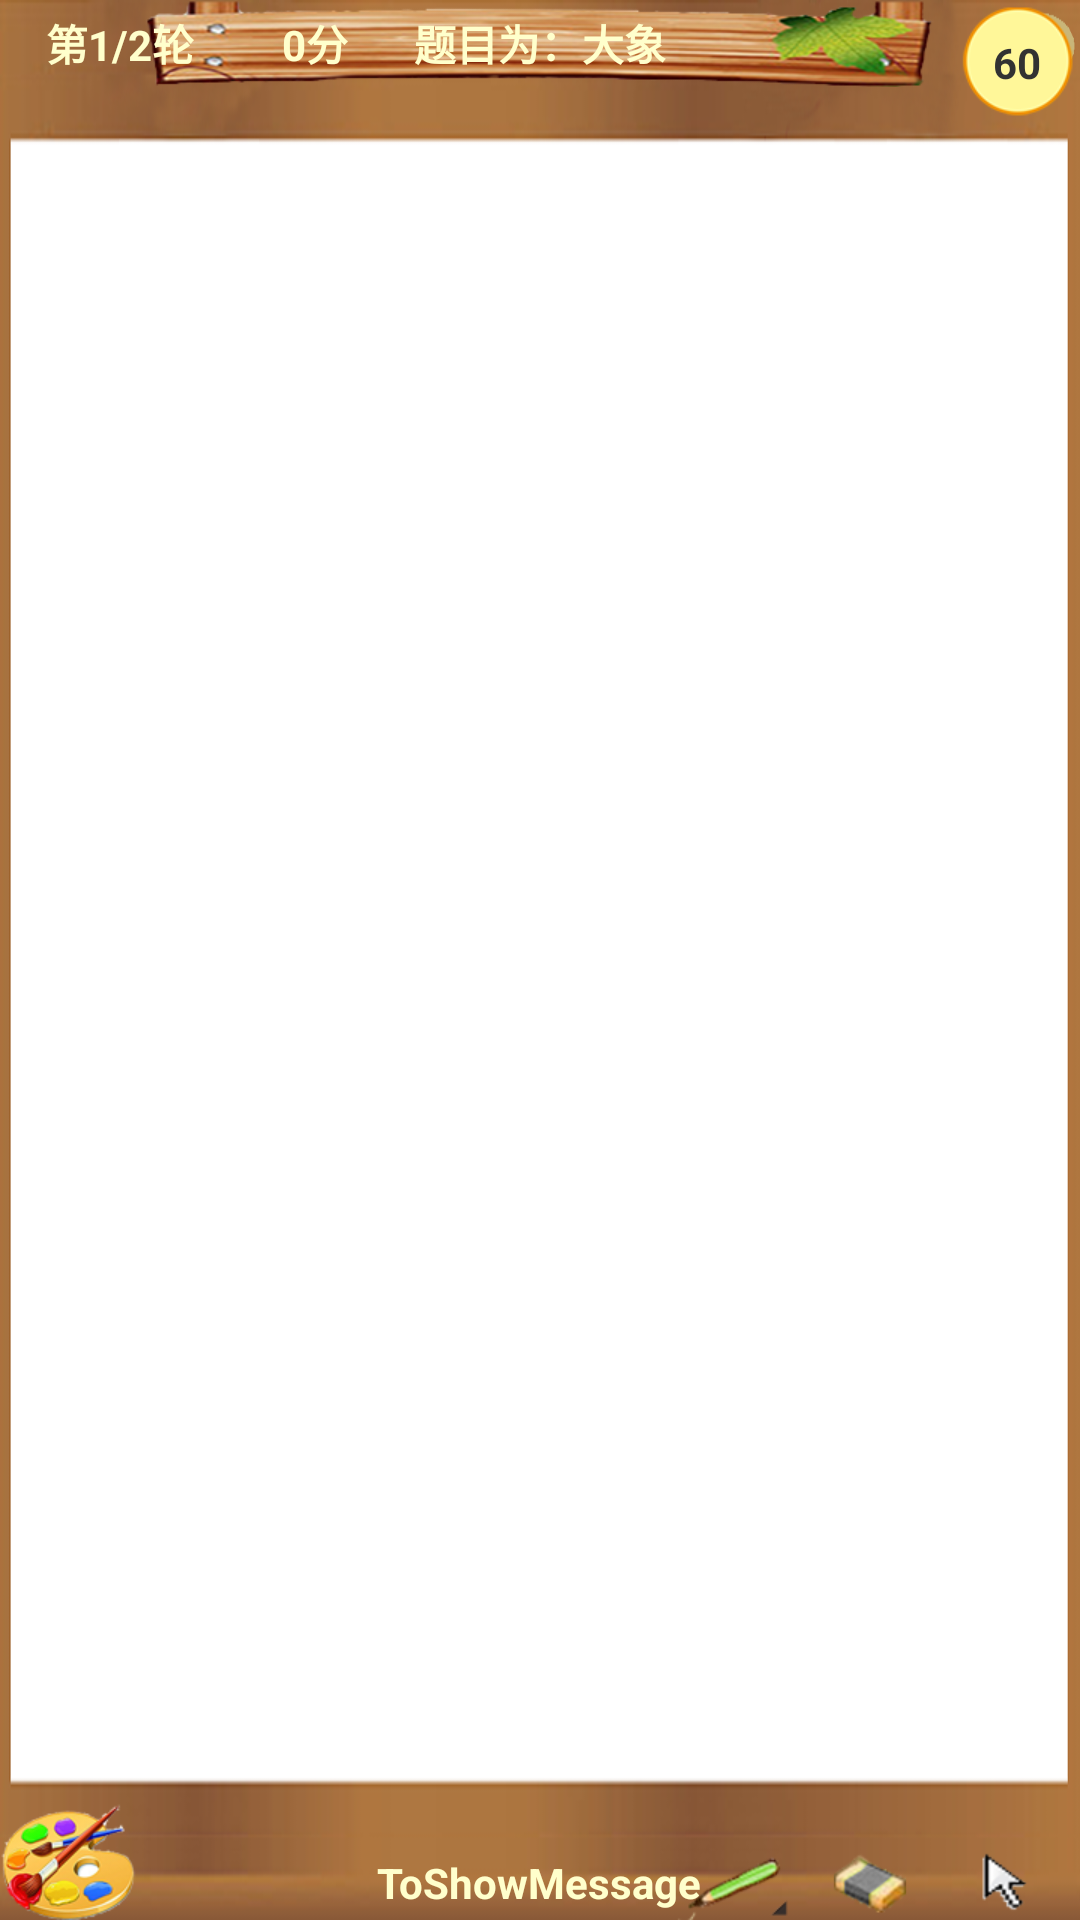

Icons on this 1080px x 1920px Android screen, each with the point to tap as [x,y]:
eraser: [870,1884]
move: [1004,1882]
